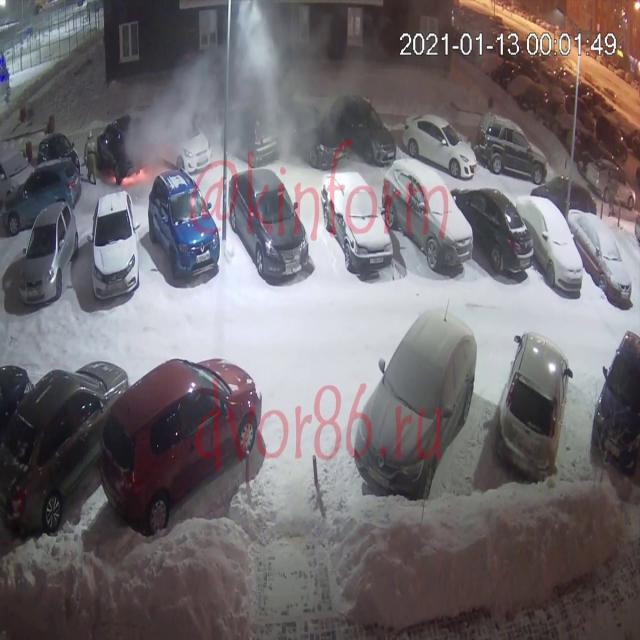Smoke: (105, 2, 339, 170)
